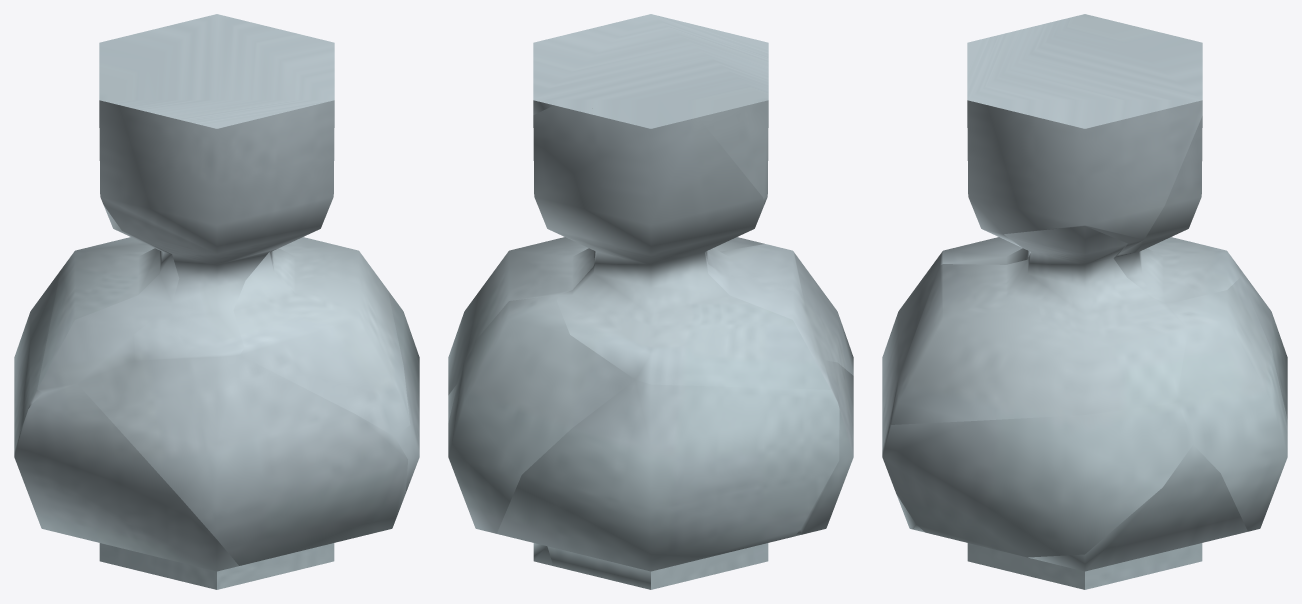
File: vase_fragments.FBX
3 views of the same model, side by side, from view 1: azimuth 30°, elevation 25°; view 2: azimuth 150°, elevation 25°; view 3: azimuth 270°, elevation 25° (orthographic).
Visible parts, largest first — view 1: vase06, vase05, vase08, vase03, vase04, vase07, vase01, vase10; view 2: vase04, vase01, vase06, vase09, vase08, vase03, vase05, vase10, vase07; view 3: vase06, vase08, vase10, vase09, vase02, vase04, vase05, vase01, vase07.
Boxes of the visible parts, bbox=[...] form: vase06: bbox=[99, 14, 334, 360]; vase05: bbox=[77, 355, 407, 565]; vase08: bbox=[233, 237, 410, 436]; vase03: bbox=[14, 384, 238, 589]; vase04: bbox=[37, 19, 195, 392]; vase07: bbox=[99, 543, 334, 588]; vase01: bbox=[14, 270, 60, 448]; vase10: bbox=[388, 290, 419, 493]; vase04: bbox=[533, 105, 831, 389]; vase01: bbox=[497, 380, 839, 589]; vase06: bbox=[533, 14, 805, 306]; vase09: bbox=[448, 295, 634, 533]; vase08: bbox=[475, 237, 764, 340]; vase03: bbox=[800, 360, 853, 534]; vase05: bbox=[794, 253, 853, 375]; vase10: bbox=[448, 290, 479, 395]; vase07: bbox=[708, 529, 801, 575]; vase06: bbox=[940, 14, 1202, 265]; vase08: bbox=[889, 226, 1187, 424]; vase10: bbox=[882, 403, 1192, 557]; vase09: bbox=[1166, 277, 1287, 531]; vase02: bbox=[1007, 445, 1247, 589]; vase04: bbox=[1113, 31, 1241, 303]; vase05: bbox=[882, 253, 941, 529]; vase01: bbox=[1241, 270, 1287, 419]; vase07: bbox=[913, 525, 1011, 571].
Bounding box in the file's own units: 22.69 × 24.66 × 19.65.
Materials: 1 (1 with a texture image).
